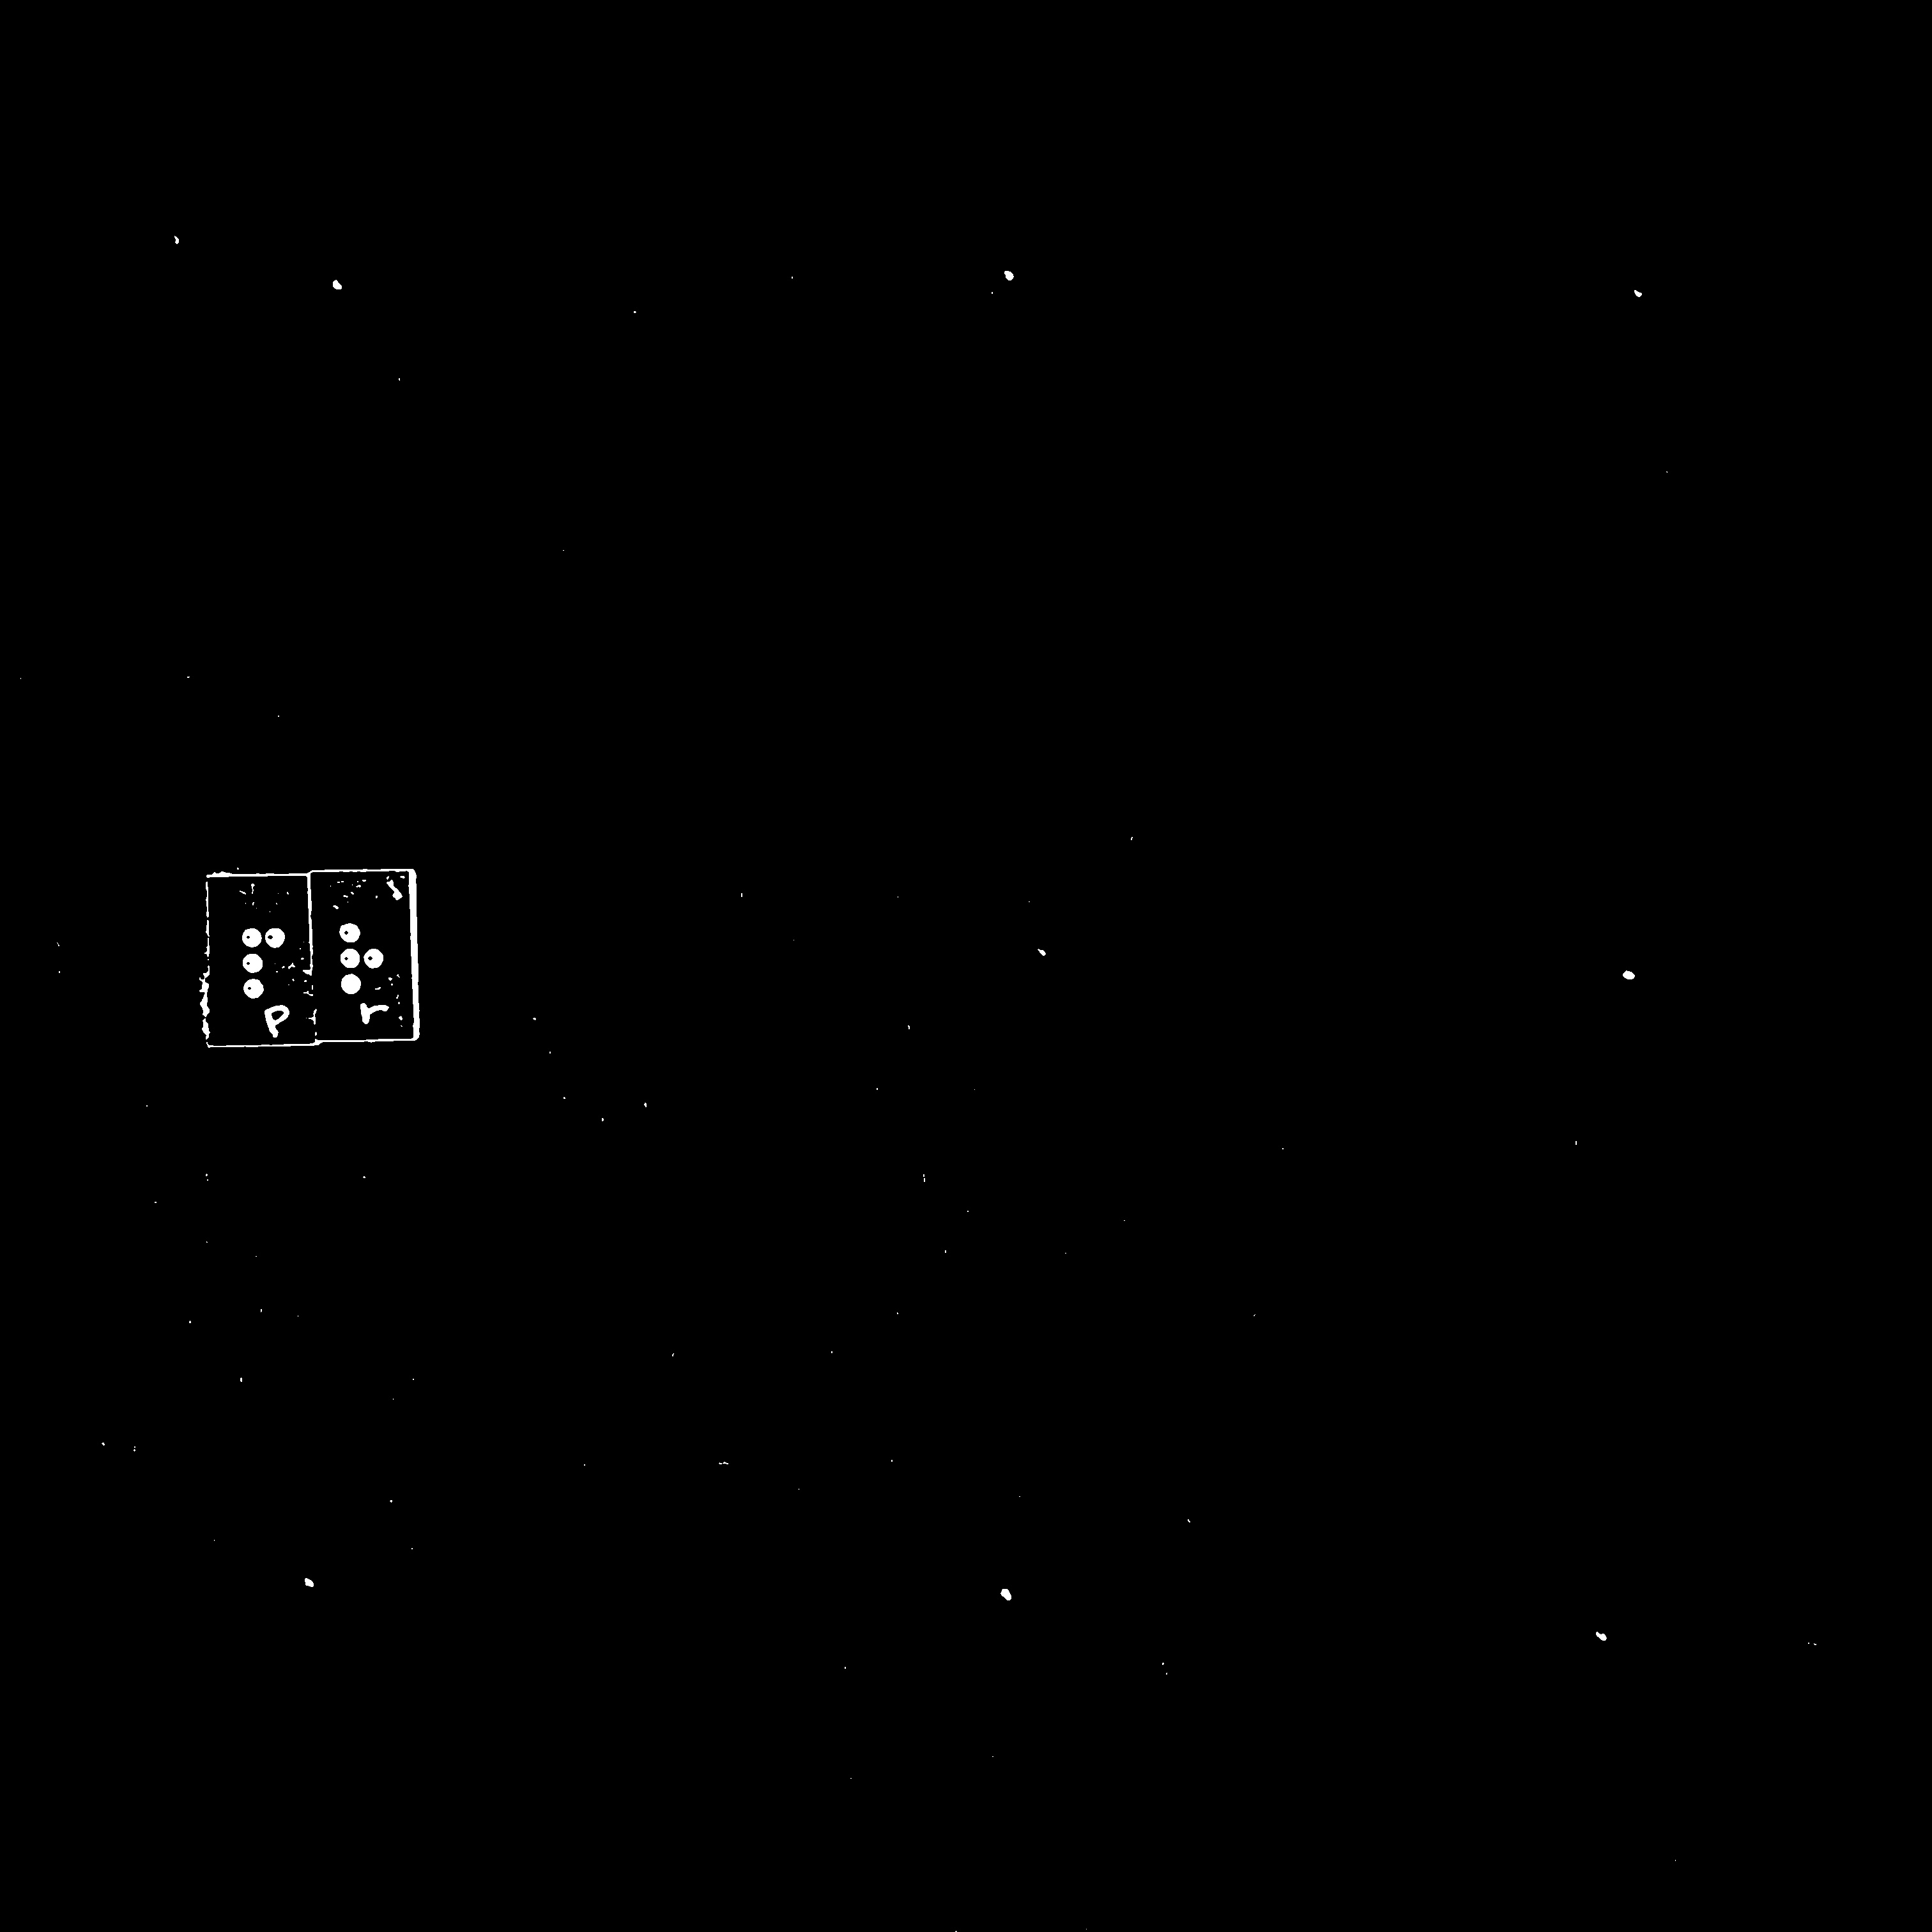p: (232, 916, 291, 1000)
r: (326, 914, 386, 998)
